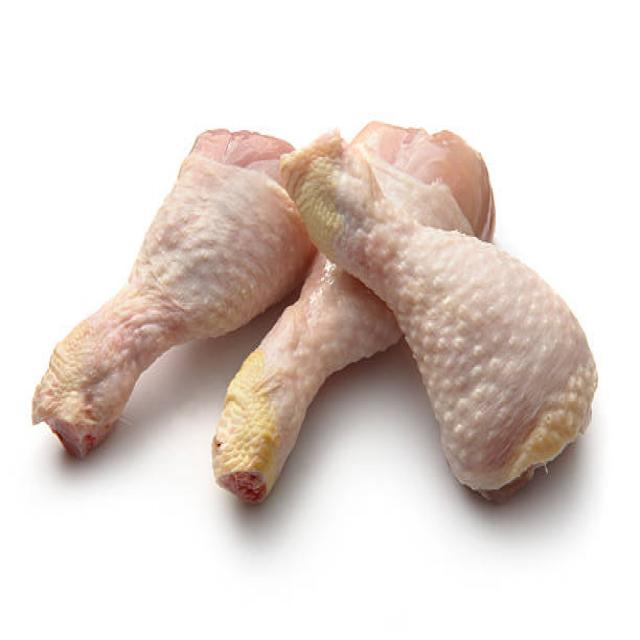Chicken Thigh: (303, 150, 598, 480), (22, 128, 260, 450)
